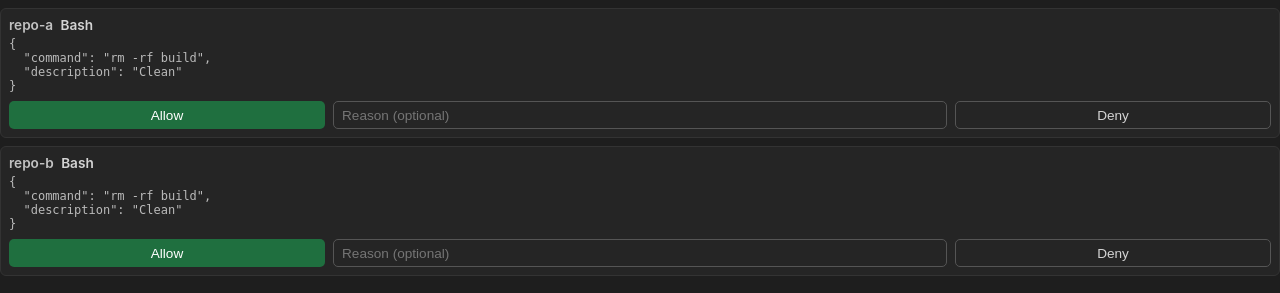
Test: answering a permission request › answering one owner leaves the other owner’s buttons usable
The image size is (1280, 293).
Expected: the text "repo-a" is shown, [9, 17, 53, 33]
Click the button "Allow" below "repo-a" at (167, 115), box [9, 101, 325, 129]
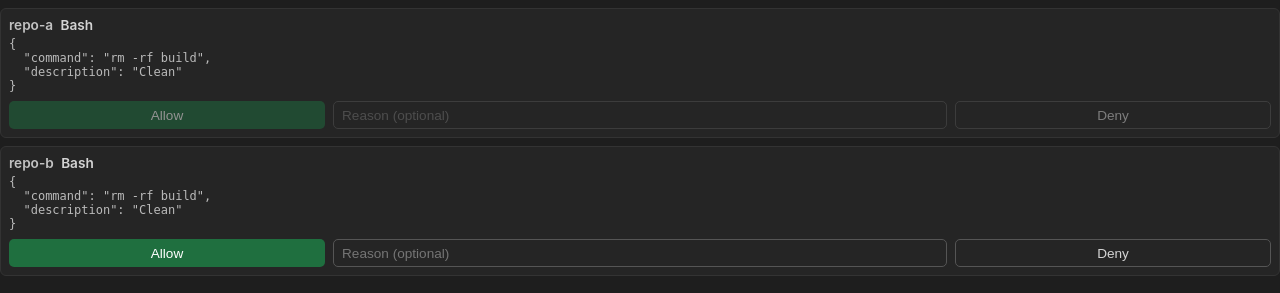
Expected: the button "Allow" below "repo-b" is enabled, [9, 239, 325, 267]
Expected: the button "Allow" below "repo-a" is disabled, [9, 101, 325, 129]
